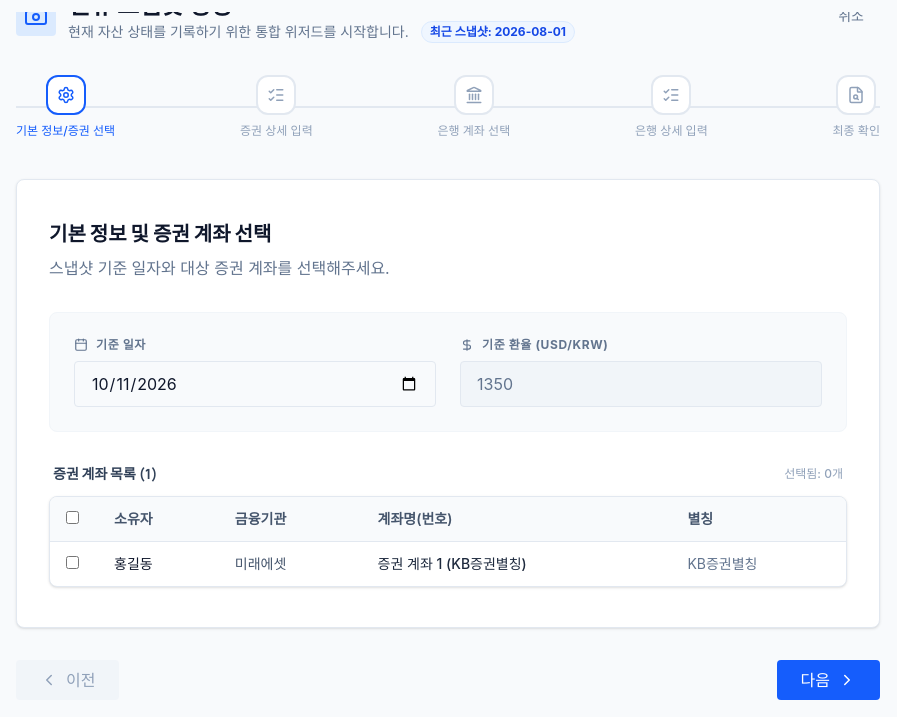
it: SnapshotWizardPage (Unified 5-Step) › 정합성 경고 발생 시 확인 체크박스를 체크해야만 확정 버튼이 활성화된다
(page scrolled)
Click the text "증권 계좌 1 (KB증권별칭)".
click(516, 564)  # box [362, 542, 671, 586]
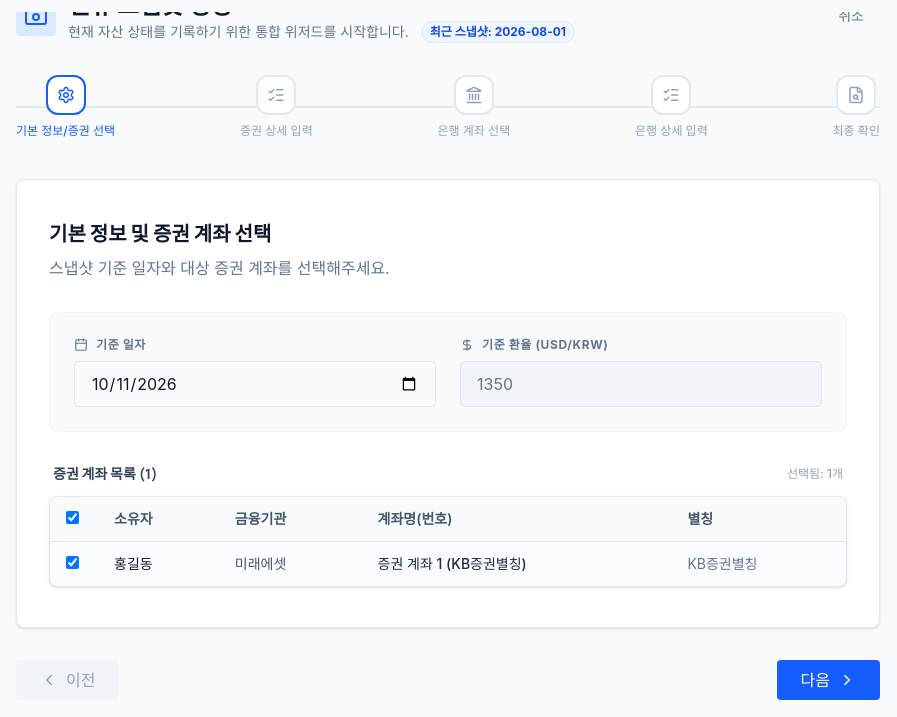
Click the button "다음".
click(828, 680)  # box [776, 660, 880, 700]
(page scrolled)
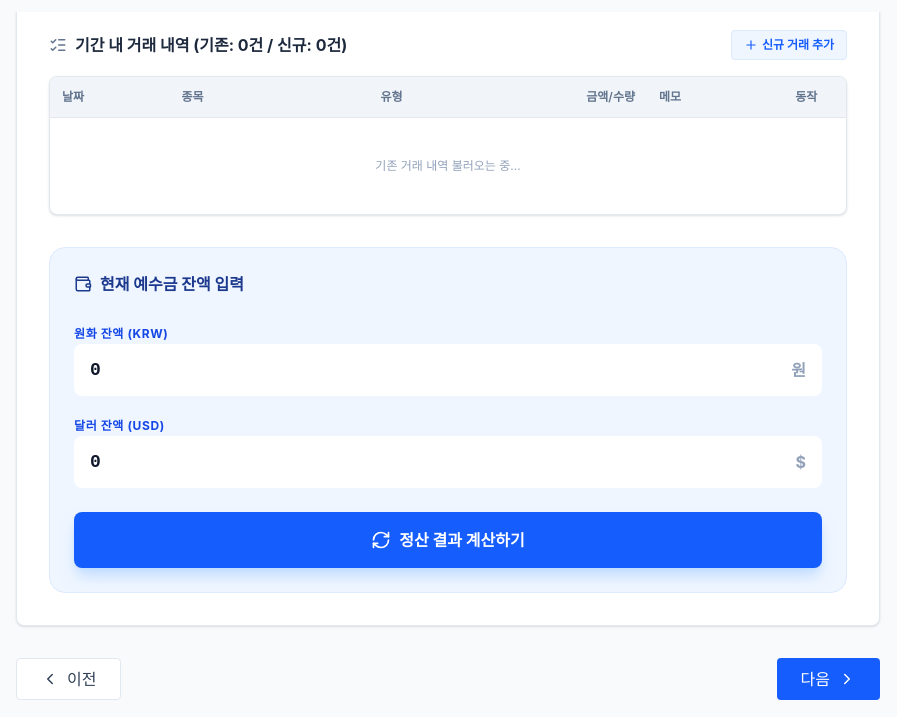
Click the button "정산 결과 계산하기".
click(448, 540)  # box [74, 512, 822, 568]
(page scrolled)
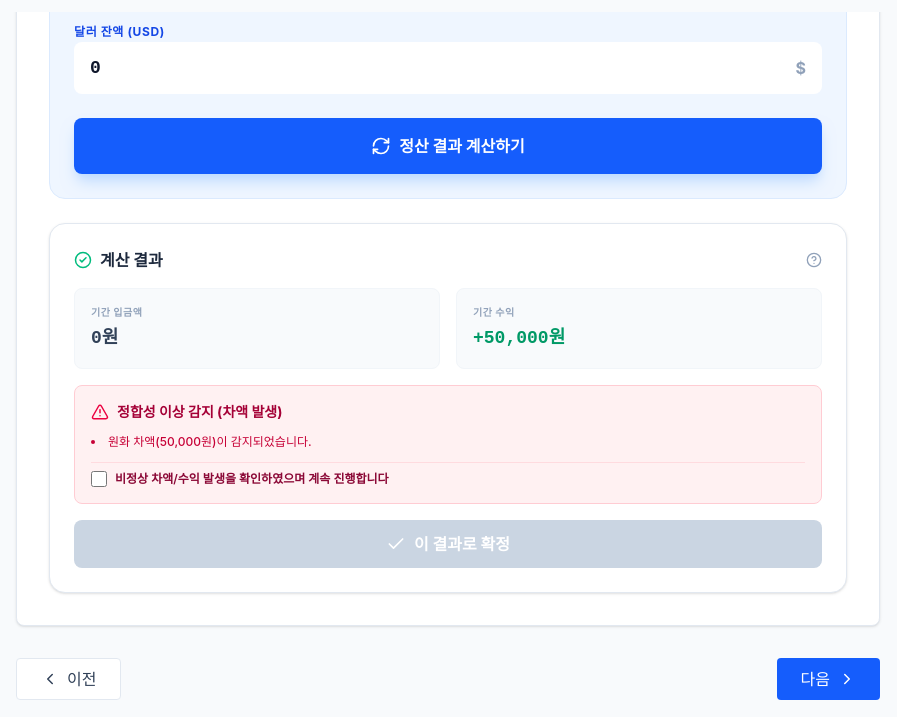
Check: the element with test id "integrity-warning-card" is shown, box [74, 385, 822, 504]
Check: the list item "원화 차액(50,000원)이 감지되었습니다." is shown, box [108, 434, 312, 449]
Check: the button "이 결과로 확정" is disabled, box [74, 520, 822, 568]
//  체크박스 클릭
Click the checkbox with test id "integrity-confirm-checkbox".
click(99, 479)  # box [91, 471, 107, 487]
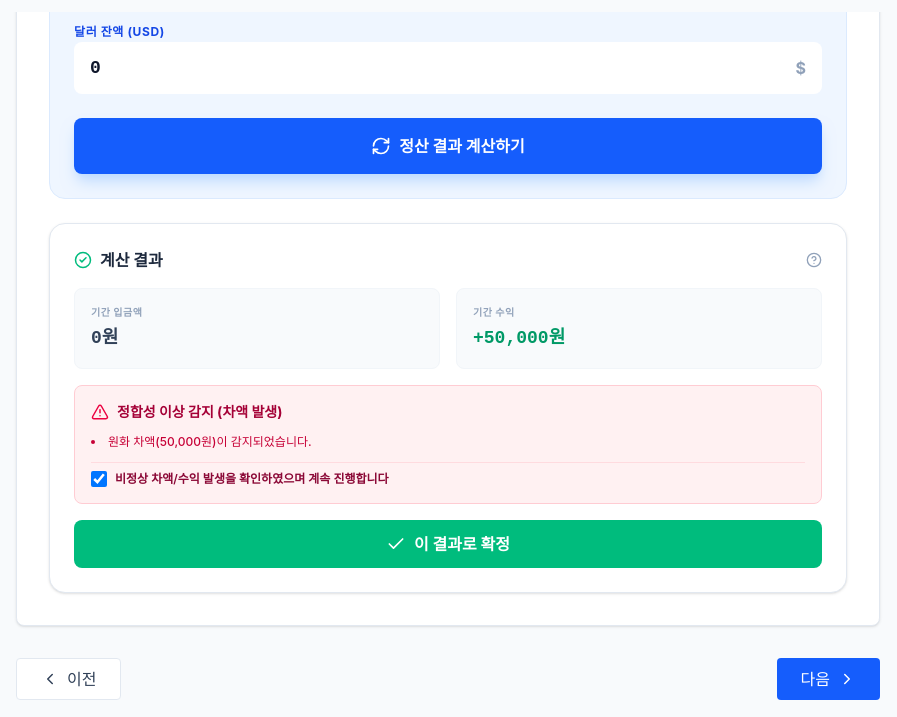
Check: the button "이 결과로 확정" is enabled
Click the button "이 결과로 확정".
click(448, 544)  # box [74, 520, 822, 568]
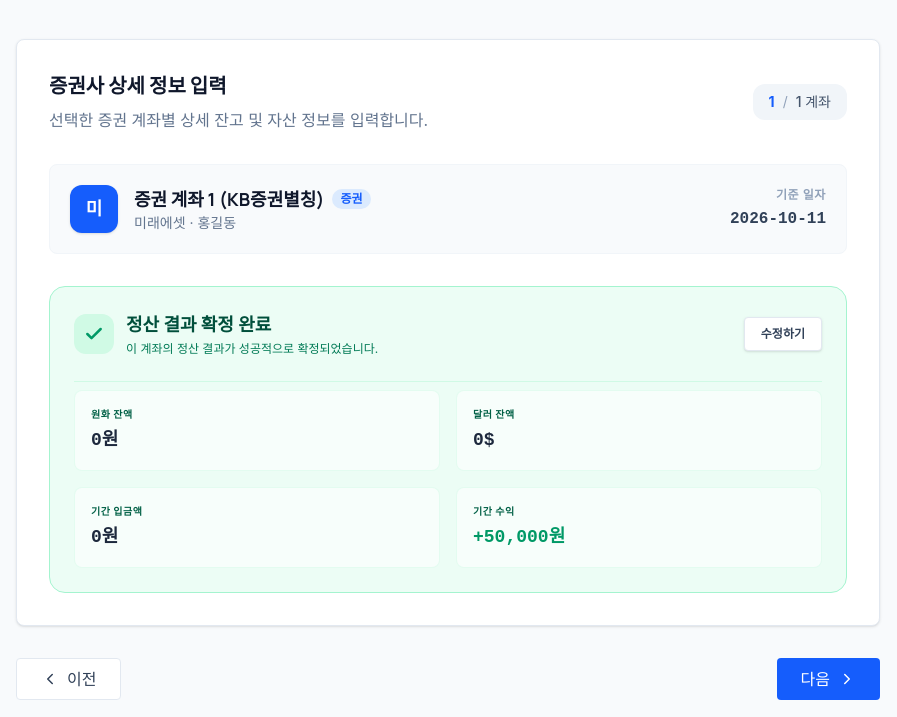
Check: the heading "정산 결과 확정 완료" is shown, box [126, 314, 271, 335]
